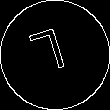L_S: (33, 26, 77, 84)
